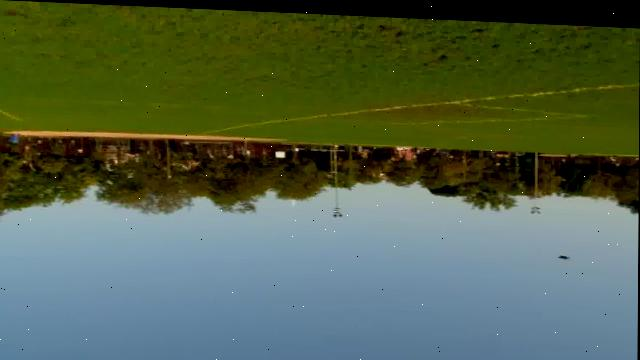drone: (552, 245, 574, 258)
